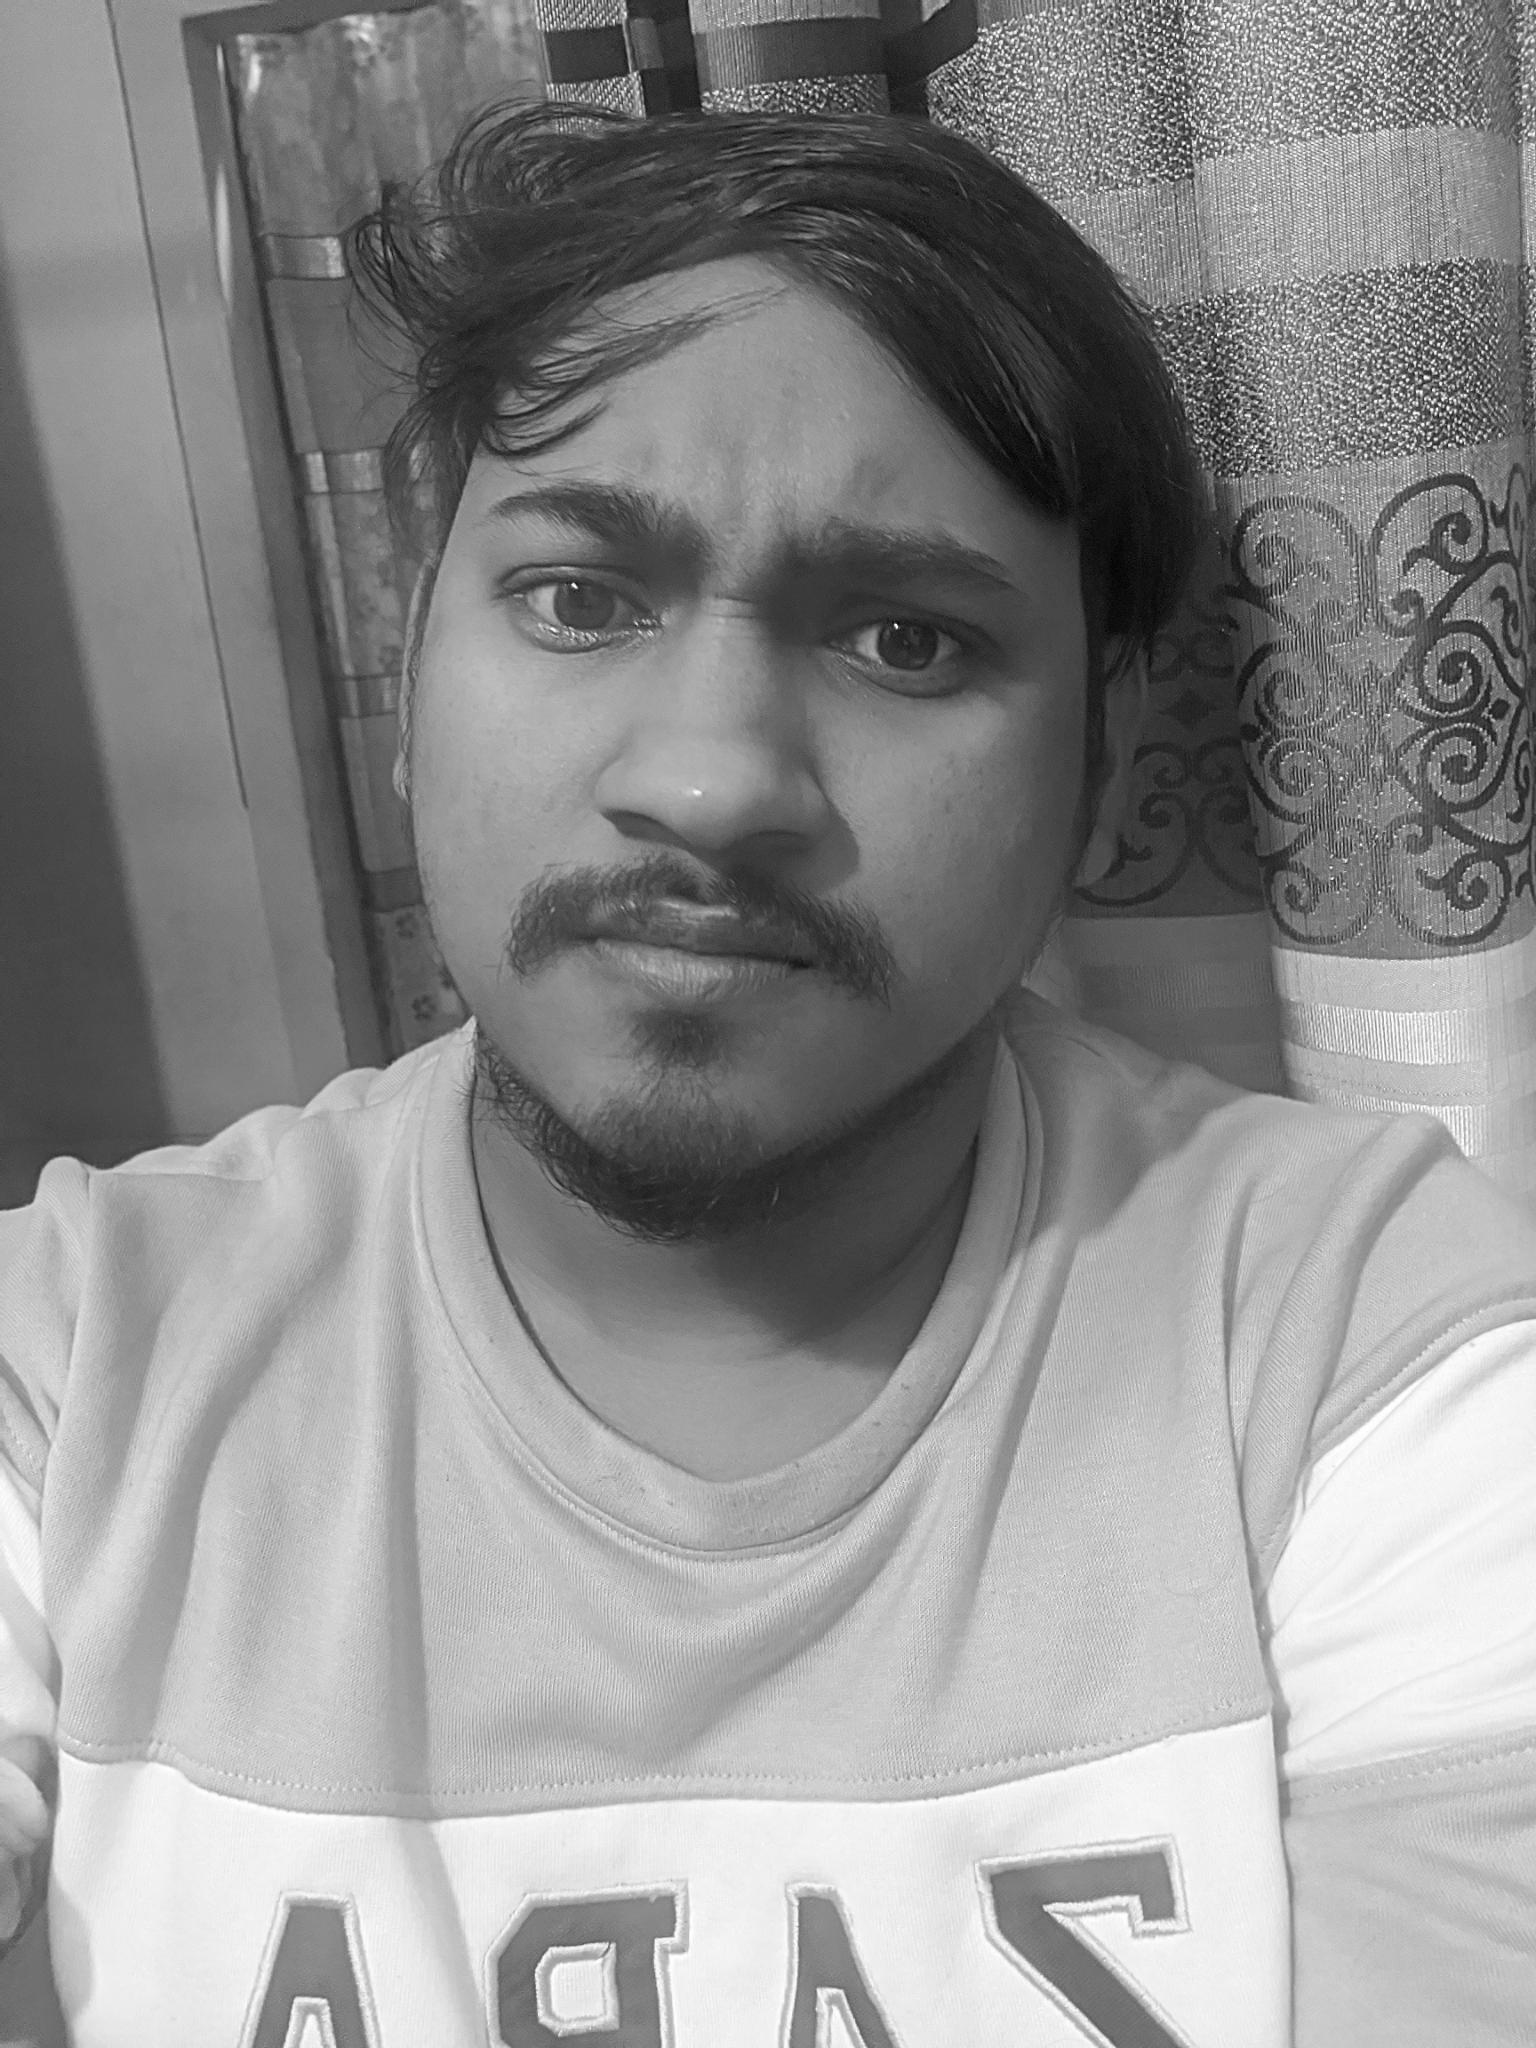Angry: (407, 392, 1084, 1180)
